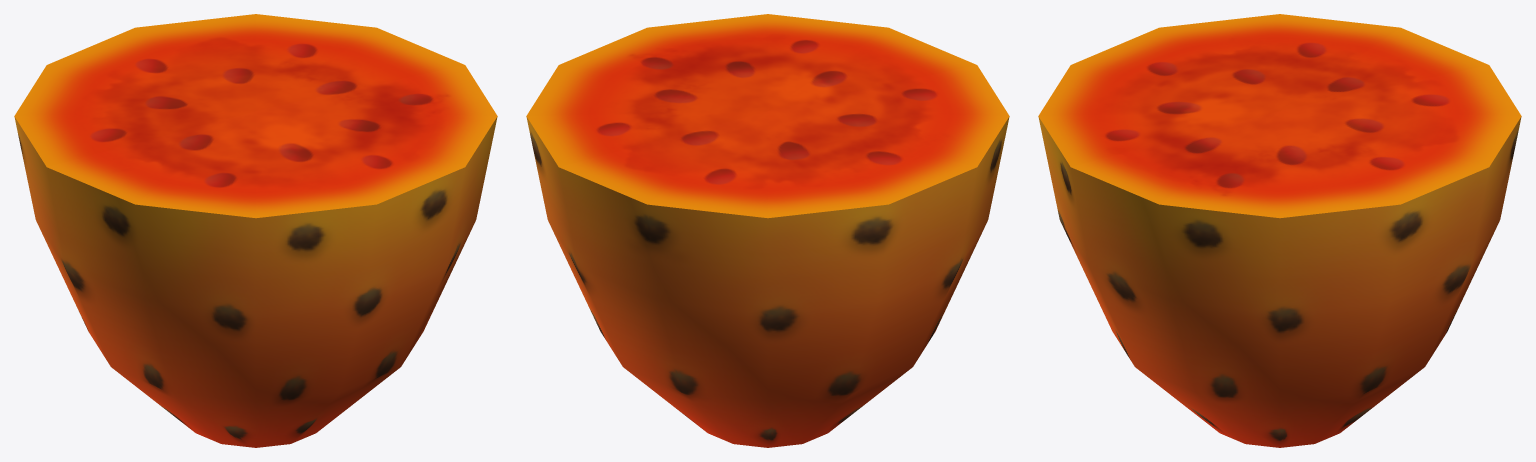
Rendered from PricklyPear_Orange_Half.fbx.
3 renders of one model, left to right at view 1: azimuth 30°, elevation 25°; view 2: azimuth 150°, elevation 25°; view 3: azimuth 270°, elevation 25°, orthographic.
Visible parts, largest first — view 1: PricklyPear_Orange_Half; view 2: PricklyPear_Orange_Half; view 3: PricklyPear_Orange_Half.
Boxes of the visible parts, x1,y1,x2,y2 form: PricklyPear_Orange_Half: (14,14,497,447); PricklyPear_Orange_Half: (526,14,1009,447); PricklyPear_Orange_Half: (1038,14,1521,447).
Bounding box in the file's own units: 26.57 × 19.9 × 26.57.
Materials: 1 (1 with a texture image).
